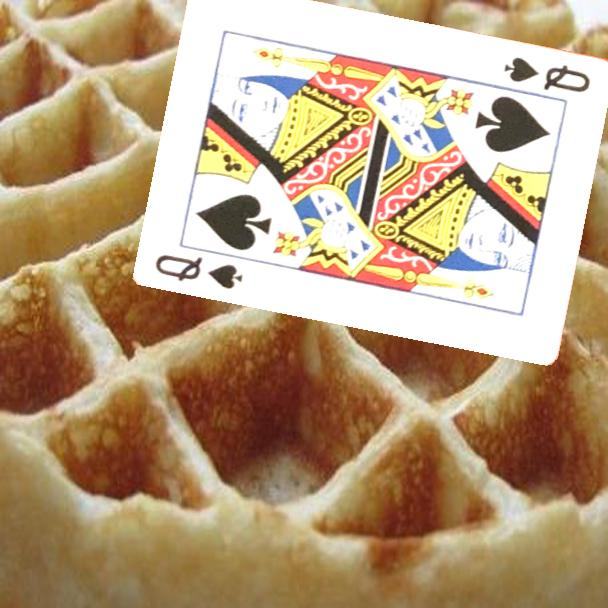s12: (500, 53, 594, 95), (152, 250, 246, 292)
